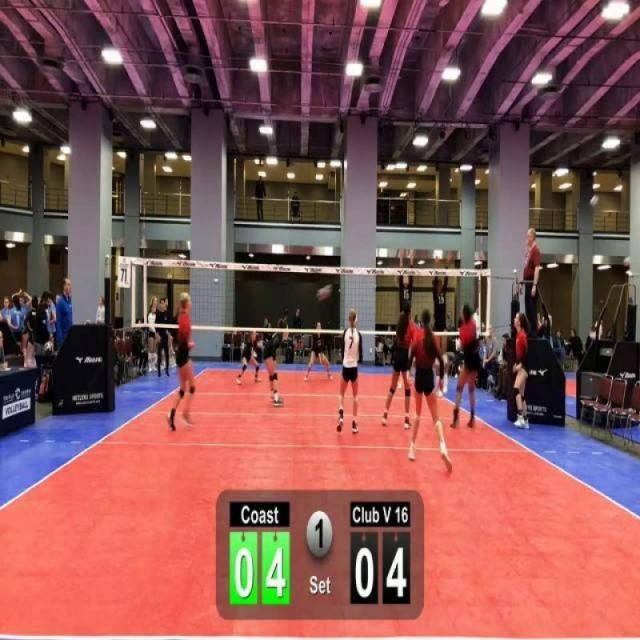volleyball: (312, 282, 335, 302)
